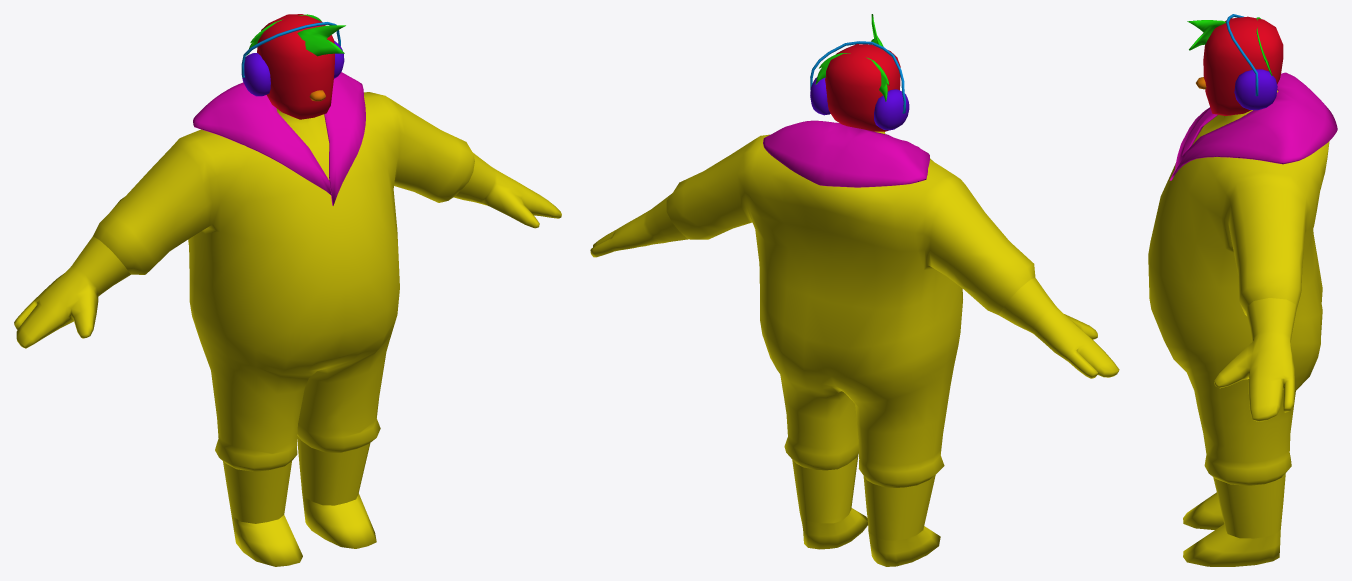
The model's file is Kevin.fbx.
The picture shows the model from 3 angles, left to right: view 1: azimuth 30°, elevation 25°; view 2: azimuth 150°, elevation 25°; view 3: azimuth 270°, elevation 25°; orthographic projection. The views are drawn at different scales.
Visible parts, largest first — view 1: body; view 2: body; view 3: body.
Part boxes in pixels (x1=…): body: x1=14, y1=14, x2=561, y2=566; body: x1=590, y1=14, x2=1119, y2=566; body: x1=1148, y1=14, x2=1337, y2=566.
Bounding box in the file's own units: 205 × 190 × 62.06.
